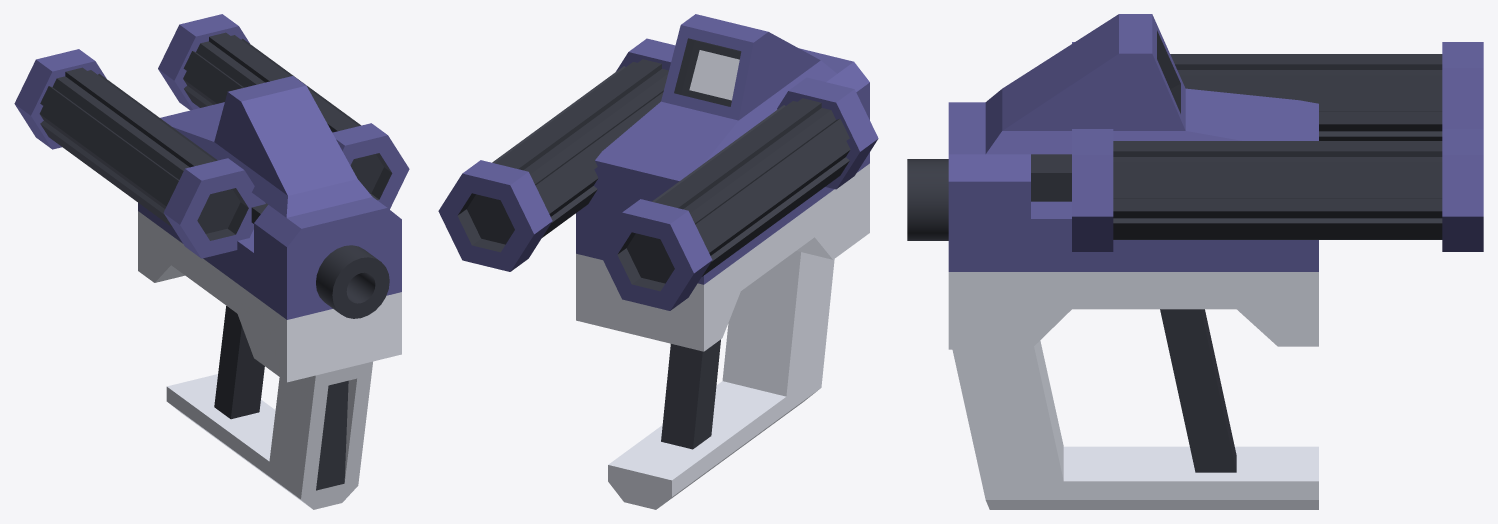
The model's file is GunThree.fbx.
3 renders of one model, left to right at view 1: azimuth 30°, elevation 25°; view 2: azimuth 150°, elevation 25°; view 3: azimuth 270°, elevation 25°, orthographic. The views are drawn at different scales.
Visible parts, largest first — view 1: mergedBlocks; view 2: mergedBlocks; view 3: mergedBlocks.
Boxes of the visible parts, <box> form: mergedBlocks: <box>14,14,409,509</box>; mergedBlocks: <box>438,14,878,509</box>; mergedBlocks: <box>907,14,1483,509</box>.
Size of the model in its own units: 8 by 12.5 by 14.
